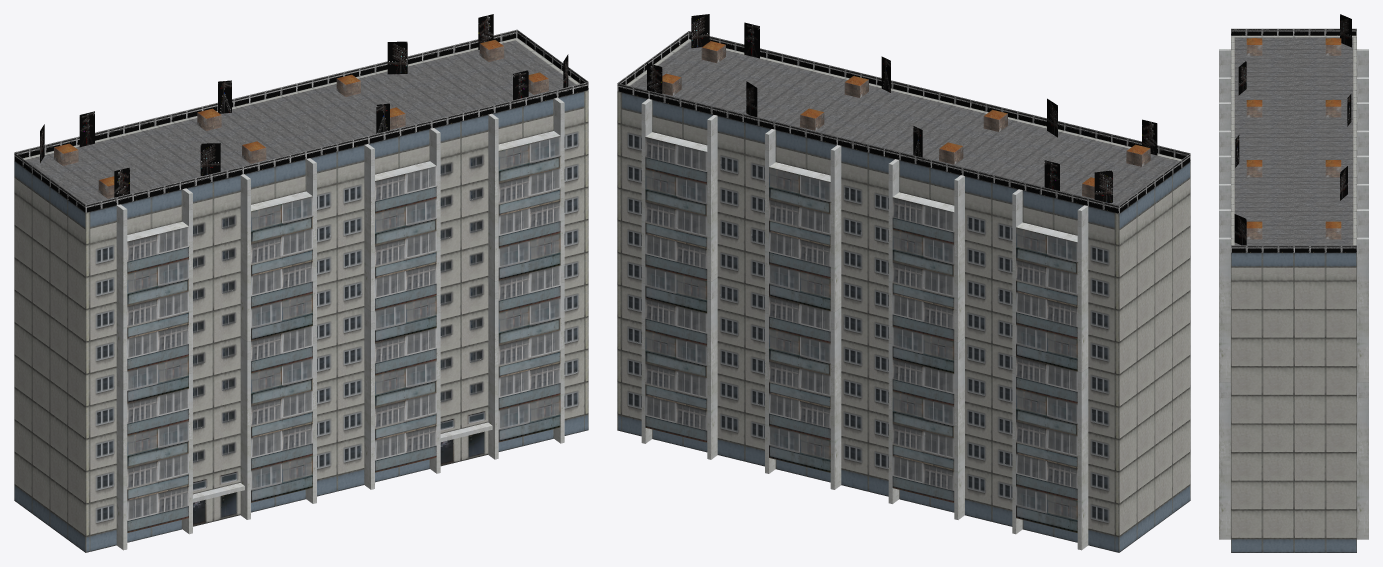
Rendered from rus_build_9et_02b.fbx.
3 views of the same model, side by side, from view 1: azimuth 30°, elevation 25°; view 2: azimuth 150°, elevation 25°; view 3: azimuth 270°, elevation 25° (orthographic). The views are drawn at different scales.
Visible parts, largest first — view 1: Regroup13, rus_build_dec_01; view 2: Regroup13, rus_build_dec_01; view 3: Regroup13, rus_build_dec_01.
Boxes of the visible parts, bbox=[...] form: Regroup13: bbox=[14, 38, 588, 552]; rus_build_dec_01: bbox=[14, 14, 588, 212]; Regroup13: bbox=[617, 39, 1190, 552]; rus_build_dec_01: bbox=[617, 14, 1190, 213]; Regroup13: bbox=[1219, 35, 1368, 552]; rus_build_dec_01: bbox=[1231, 14, 1356, 252].
Bounding box in the file's own units: 4550 × 3220 × 1330.
